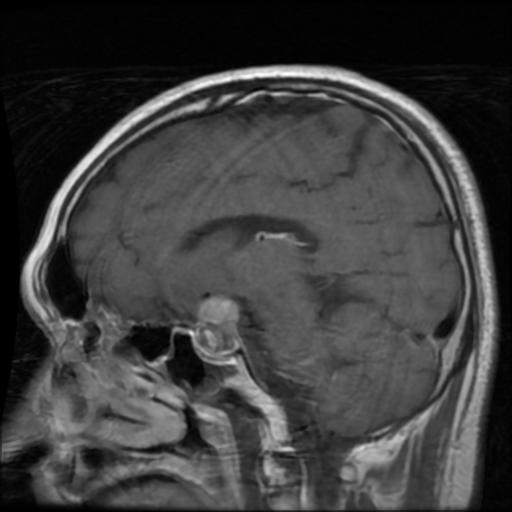Pituirity_tumour: (198, 296, 238, 351)
